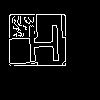H: (25, 25, 63, 72)
